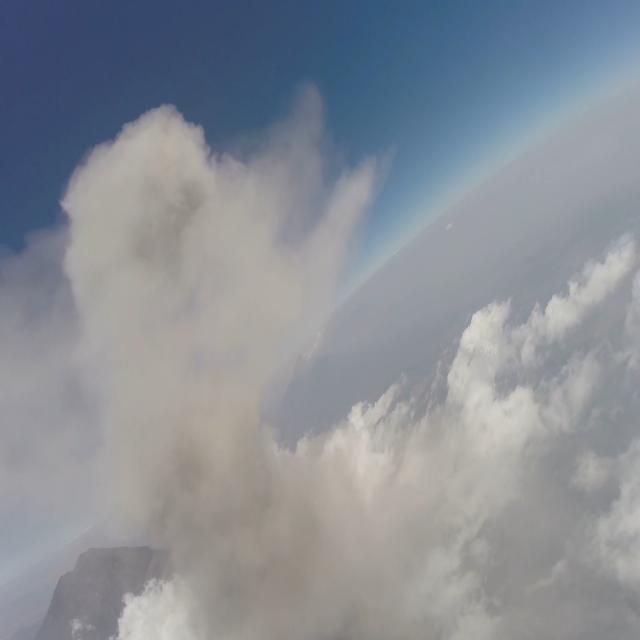Plume: (0, 87, 449, 640)
